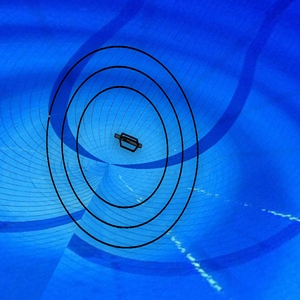circle: (44, 40, 202, 258)
submarine: (112, 132, 145, 158)
